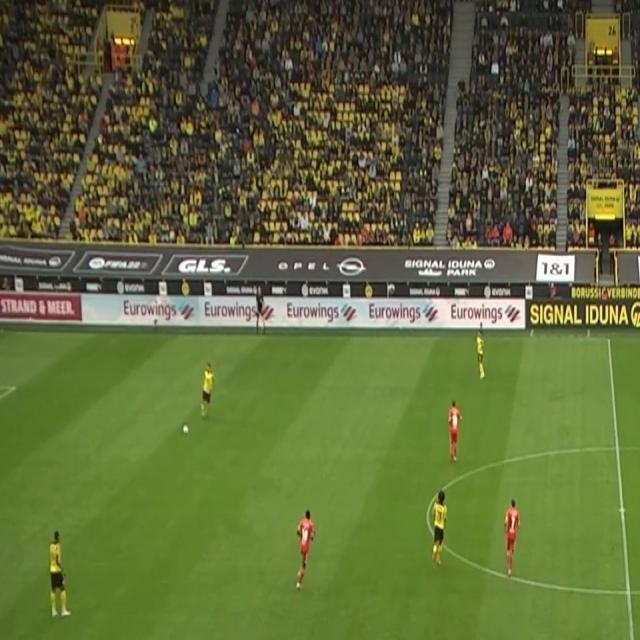ball: (182, 422, 190, 437)
